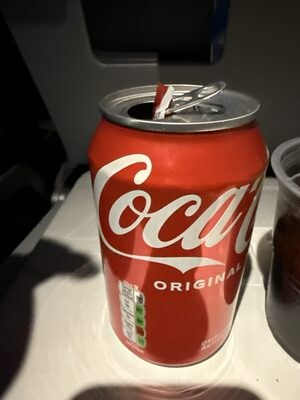coca-cola: (15, 20, 285, 380)
